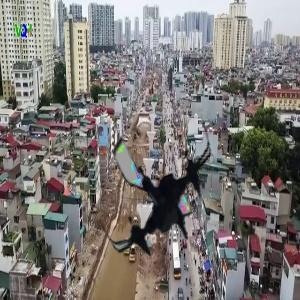drone: (83, 111, 231, 259)
